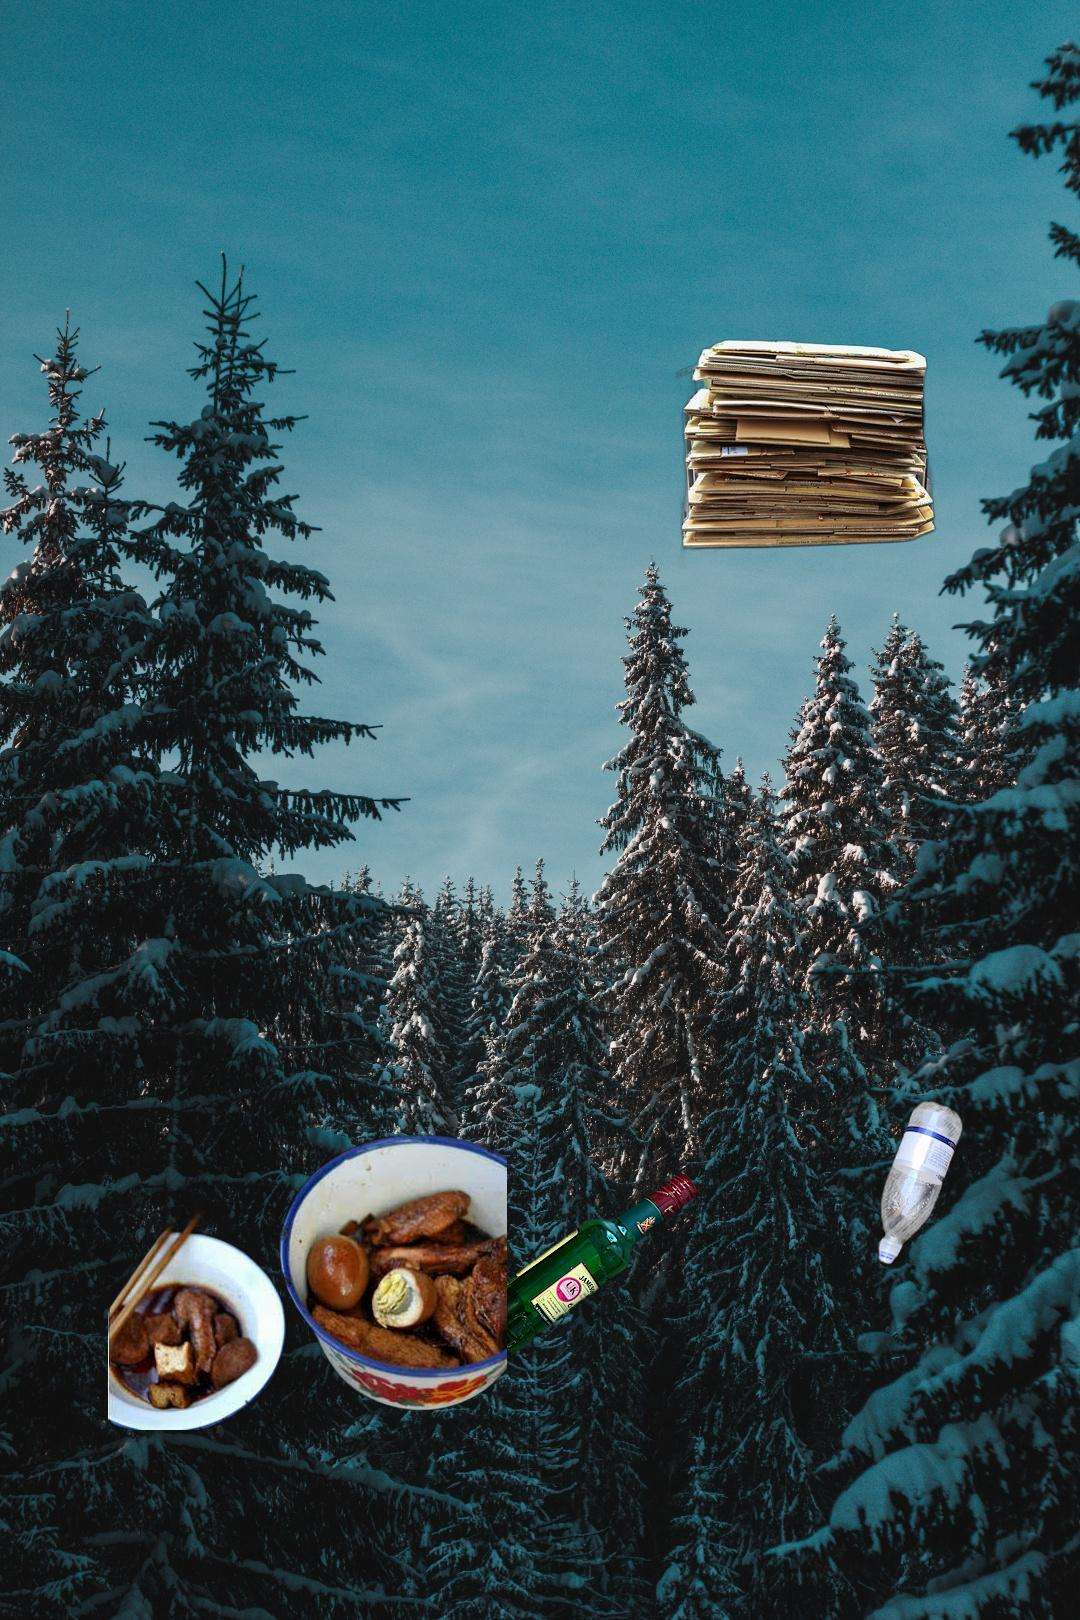biological: (108, 1131, 507, 1430)
glass: (472, 1168, 703, 1363)
paper: (1075, 1443, 1080, 1620)
plastic-bottles: (873, 1094, 968, 1270)
trashbox-cardboard: (663, 337, 939, 570)
